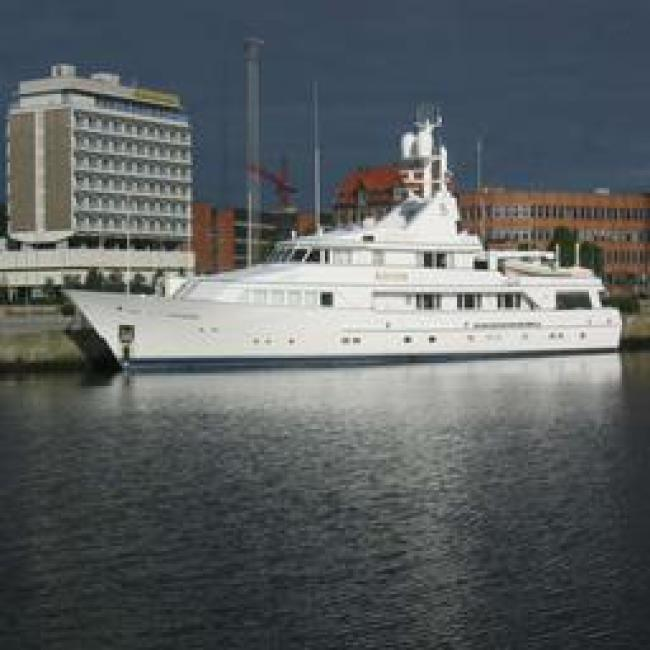Ship: (76, 215, 634, 378)
